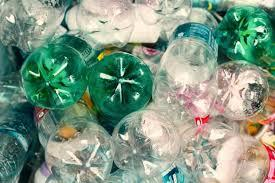Plastic bottle: (2, 2, 275, 183)
